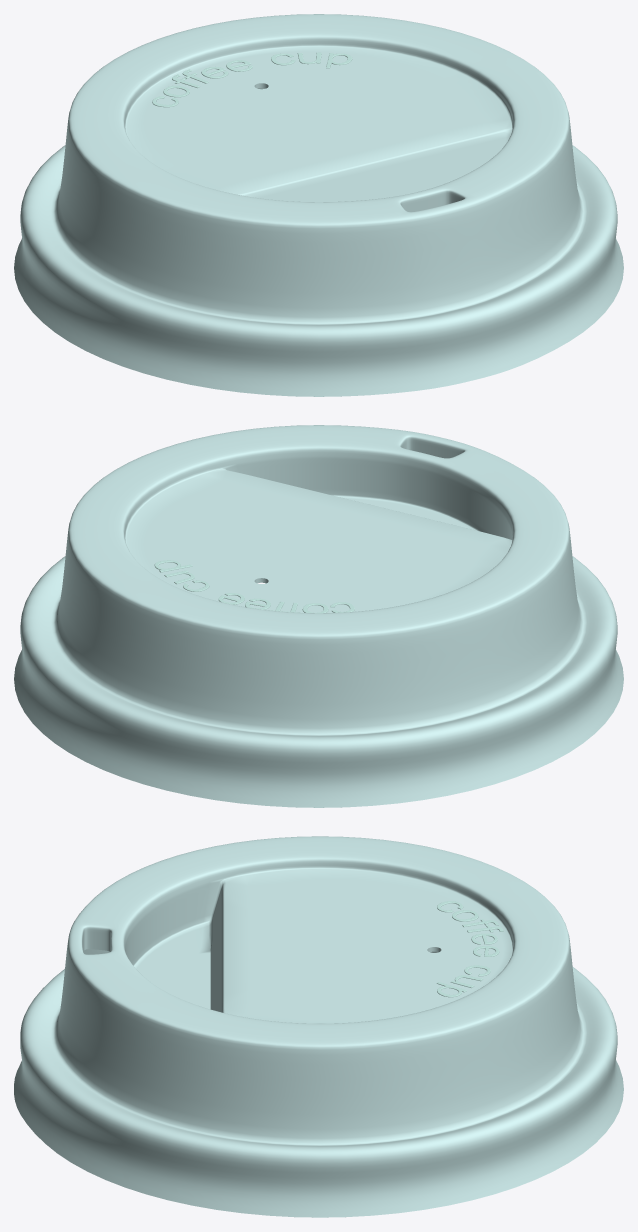
Rendered from lid1.gltf.
The picture shows the model from 3 angles, top to bottom: view 1: azimuth 30°, elevation 25°; view 2: azimuth 150°, elevation 25°; view 3: azimuth 270°, elevation 25°; orthographic projection.
Visible parts, largest first — view 1: lid1; view 2: lid1; view 3: lid1.
Part boxes in pixels (<box>): lid1: <box>14,14,623,396</box>; lid1: <box>14,425,623,807</box>; lid1: <box>14,836,623,1217</box>.
Size of the model in its own units: 9.66 by 2.65 by 9.7.
